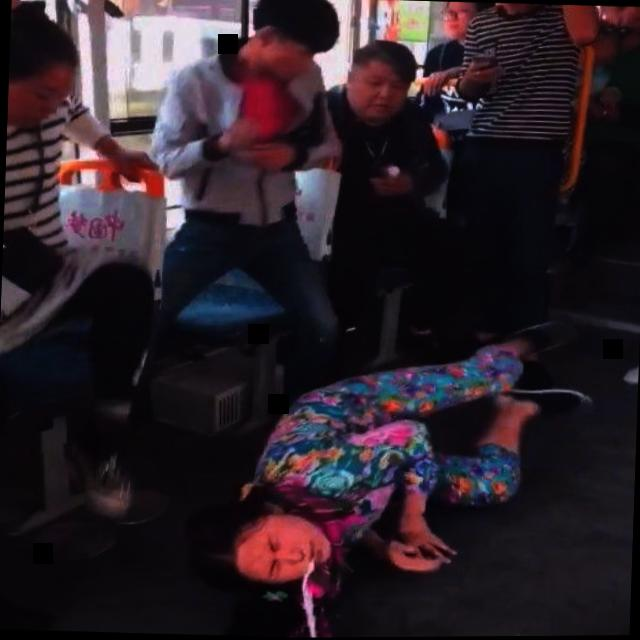Fall-Detected: (170, 301, 609, 629)
